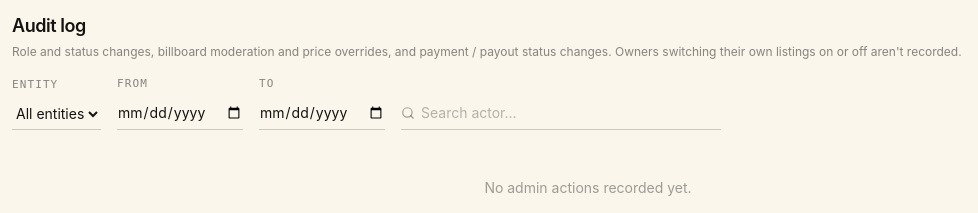
it: AuditLogPanel › filters by entity on the server
Expected: the text "No admin actions recorded yet." is shown, [484, 178, 692, 196]
Step 1. Select "Payments" in the dropdown labelled "Entity" → (56,114), box [12, 98, 101, 130]
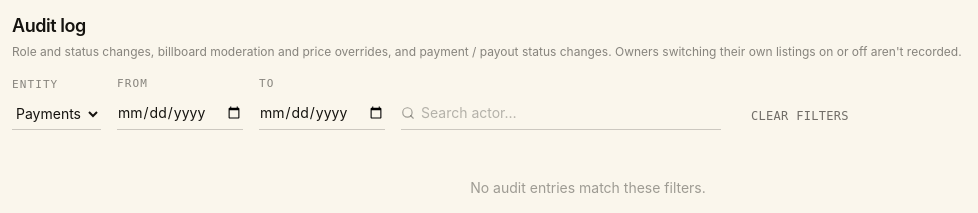
Expected: the text "No audit entries match these filters." is shown, [470, 178, 706, 196]
